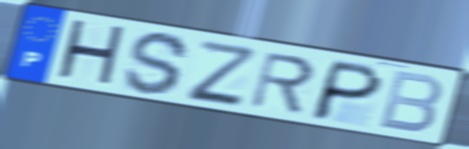B: (375, 68, 446, 136)
H: (53, 17, 129, 91)
P: (306, 58, 387, 124)
R: (247, 50, 318, 116)
S: (120, 30, 192, 98)
Z: (184, 37, 257, 106)
